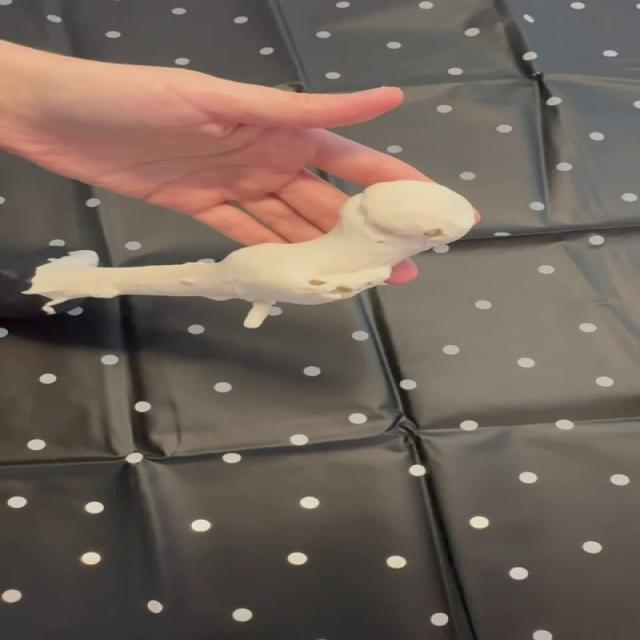bones: (0, 181, 473, 328)
